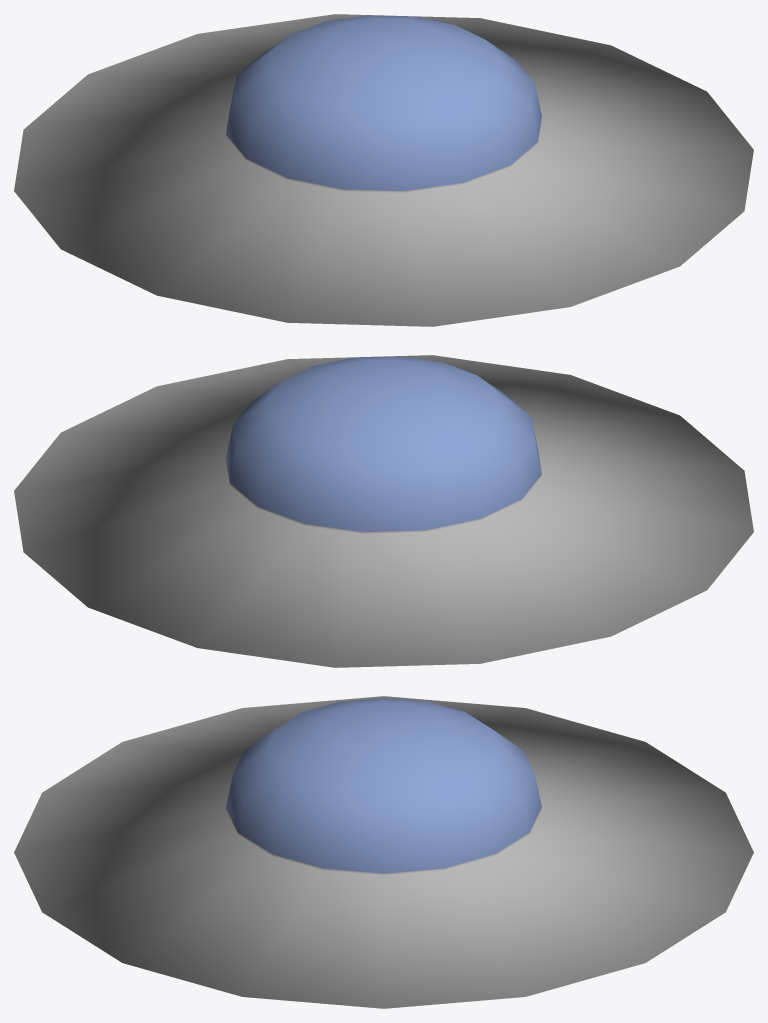
Rendered from UFO.fbx.
3 renders of one model, top to bottom at view 1: azimuth 30°, elevation 25°; view 2: azimuth 150°, elevation 25°; view 3: azimuth 270°, elevation 25°, orthographic.
Visible parts, largest first — view 1: UFO; view 2: UFO; view 3: UFO.
Part boxes in pixels (<box>): UFO: <box>14,14,753,326</box>; UFO: <box>14,355,753,667</box>; UFO: <box>14,696,753,1008</box>.
Bounding box in the file's own units: 200 × 73.29 × 200.
